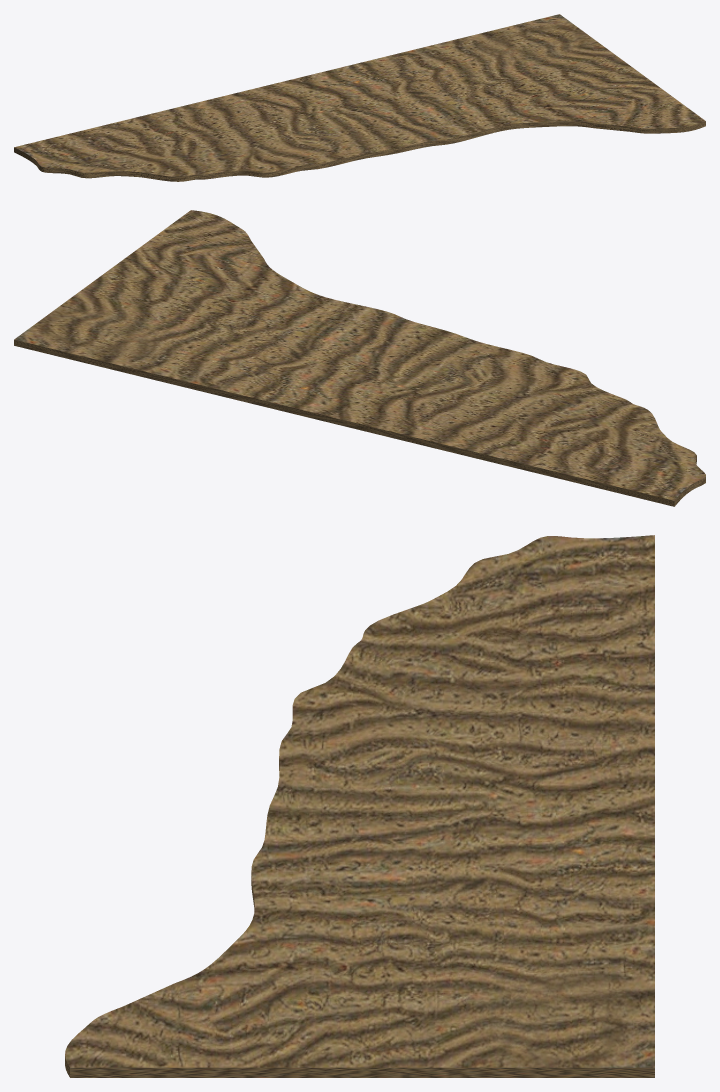
Rendered from Lake.fbx.
3 renders of one model, top to bottom at view 1: azimuth 30°, elevation 25°; view 2: azimuth 150°, elevation 25°; view 3: azimuth 270°, elevation 25°, orthographic. The views are drawn at different scales.
Parts seen in each view (by area): view 1: Line001; view 2: Line001; view 3: Line001.
Boxes of the visible parts, <box> form: Line001: <box>14,14,705,181</box>; Line001: <box>14,210,705,506</box>; Line001: <box>65,535,654,1077</box>.
Bounding box in the file's own units: 170 × 1.5 × 79.34.
